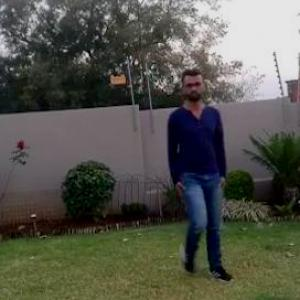follow: (146, 63, 222, 286)
